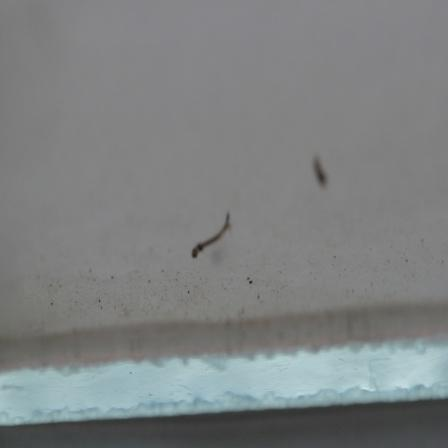Jentik-Nyamuk: (188, 209, 237, 262)
